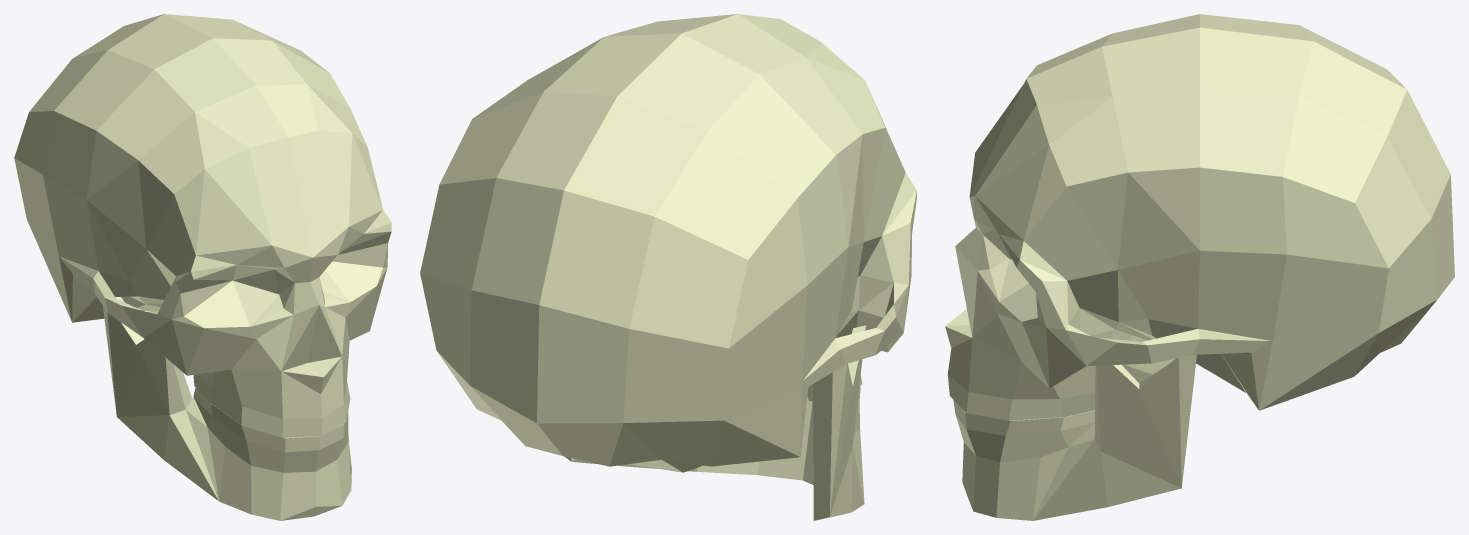
Rendered from scull lp.fbx.
The picture shows the model from 3 angles, left to right: view 1: azimuth 30°, elevation 25°; view 2: azimuth 150°, elevation 25°; view 3: azimuth 270°, elevation 25°; orthographic projection. The views are drawn at different scales.
Parts seen in each view (by area): view 1: Cube, Cube.001; view 2: Cube, Cube.001; view 3: Cube, Cube.001.
Part boxes in pixels (x1,y1,x2,y2): Cube: (14, 14, 391, 437); Cube.001: (103, 297, 351, 520); Cube: (420, 14, 916, 472); Cube.001: (564, 325, 866, 520); Cube: (945, 14, 1454, 420); Cube.001: (953, 335, 1196, 520).
Bounding box in the file's own units: 136 × 199 × 195.
